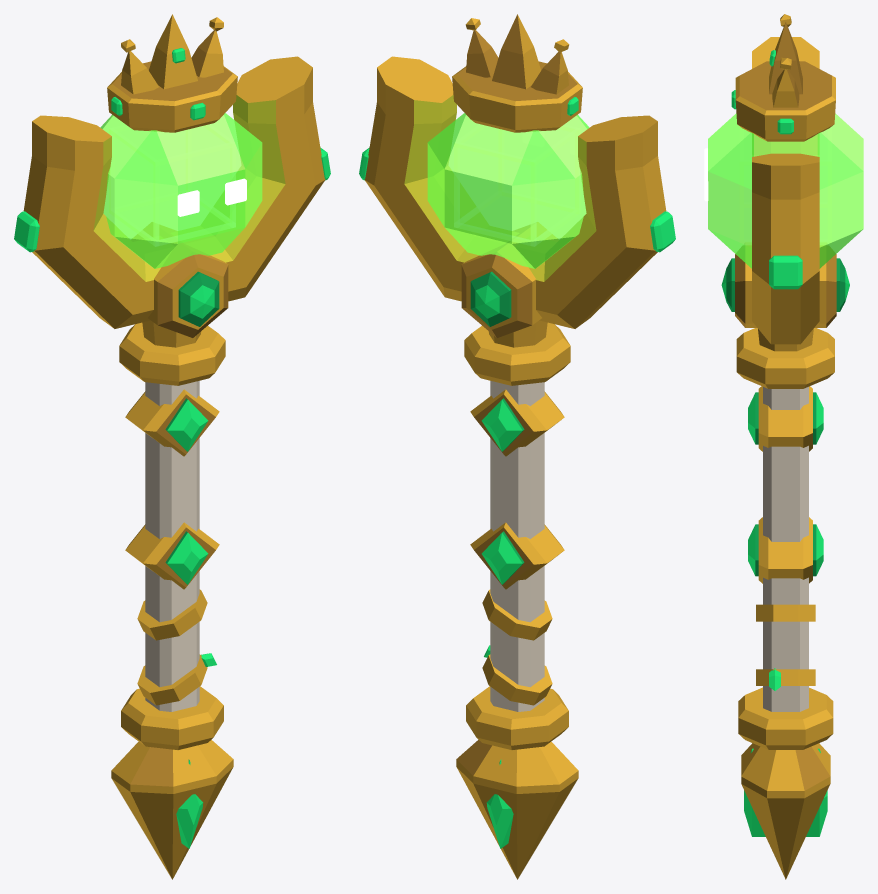
Rendered from slime_crown_staff.glb.
3 renders of one model, left to right at view 1: azimuth 30°, elevation 25°; view 2: azimuth 150°, elevation 25°; view 3: azimuth 270°, elevation 25°, orthographic.
Visible parts, largest first — view 1: head_claw, slime_body, staff_wood, staff_foot, crown_band, staff_collar_top, staff_collar_bottom, head_medallion, staff_wraps, staff_mount_upper, staff_mount_lower, crown_spike_mid (+9 smaller); view 2: head_claw, slime_body, staff_wood, staff_foot, crown_band, staff_collar_top, staff_collar_bottom, head_medallion, staff_wraps, staff_mount_upper, staff_mount_lower, crown_spike_mid (+8 smaller); view 3: head_claw, slime_body, staff_wood, staff_foot, crown_band, staff_collar_top, staff_collar_bottom, head_medallion, staff_mount_lower, staff_mount_upper, staff_wraps, head_arm_emeralds (+9 smaller).
Part boxes in pixels (bbox=[...]): head_claw: bbox=[23, 56, 325, 328]; slime_body: bbox=[100, 113, 262, 268]; staff_wood: bbox=[145, 381, 199, 711]; staff_foot: bbox=[111, 740, 233, 879]; crown_band: bbox=[107, 61, 237, 132]; staff_collar_top: bbox=[119, 322, 225, 385]; staff_collar_bottom: bbox=[121, 686, 223, 749]; head_medallion: bbox=[131, 222, 228, 337]; staff_wraps: bbox=[137, 589, 207, 705]; staff_mount_upper: bbox=[125, 389, 219, 456]; staff_mount_lower: bbox=[125, 522, 219, 589]; crown_spike_mid: bbox=[149, 14, 197, 89]; head_claw: bbox=[364, 56, 666, 328]; slime_body: bbox=[427, 113, 589, 268]; staff_wood: bbox=[490, 381, 544, 711]; staff_foot: bbox=[456, 740, 578, 879]; crown_band: bbox=[452, 61, 582, 132]; staff_collar_top: bbox=[464, 322, 570, 385]; staff_collar_bottom: bbox=[466, 686, 568, 749]; head_medallion: bbox=[461, 222, 558, 337]; staff_wraps: bbox=[482, 589, 552, 705]; staff_mount_upper: bbox=[470, 389, 564, 456]; staff_mount_lower: bbox=[470, 522, 564, 589]; crown_spike_mid: bbox=[492, 14, 540, 89]; head_claw: bbox=[752, 37, 819, 344]; slime_body: bbox=[708, 113, 863, 268]; staff_wood: bbox=[763, 386, 808, 711]; staff_foot: bbox=[741, 743, 830, 879]; crown_band: bbox=[735, 61, 835, 141]; staff_collar_top: bbox=[736, 328, 834, 388]; staff_collar_bottom: bbox=[738, 687, 833, 749]; head_medallion: bbox=[735, 245, 836, 327]; staff_mount_lower: bbox=[758, 517, 812, 583]; staff_mount_upper: bbox=[758, 386, 812, 451]; staff_wraps: bbox=[756, 604, 815, 685]; head_arm_emeralds: bbox=[769, 255, 802, 289].
Size of the model in its own units: 0.5155 by 1.4 by 0.2355.
